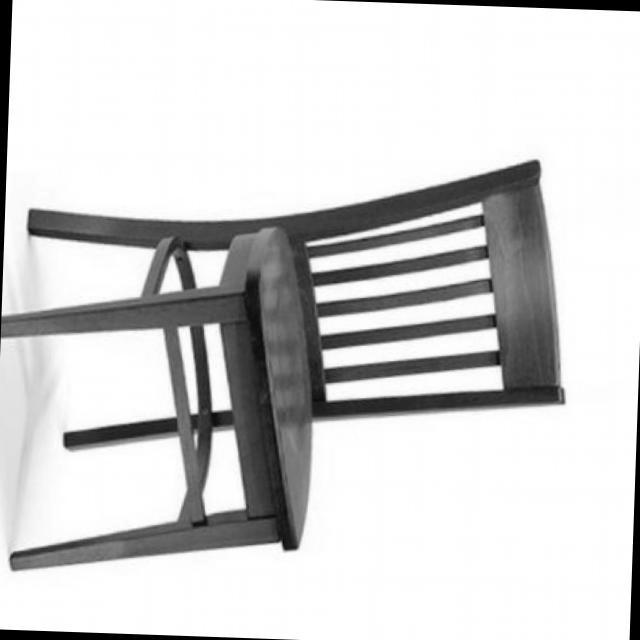chair: (0, 138, 579, 600)
